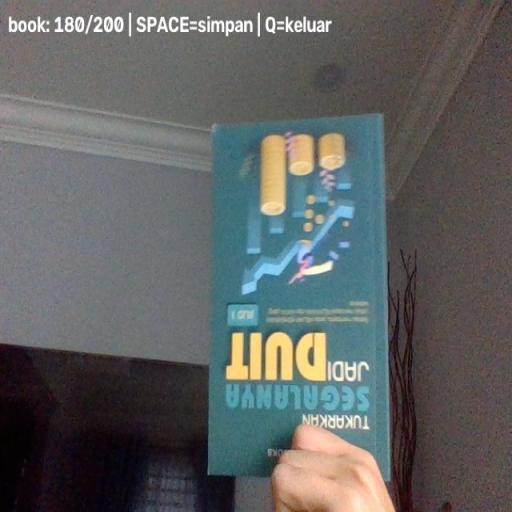Book: (208, 114, 390, 482)
